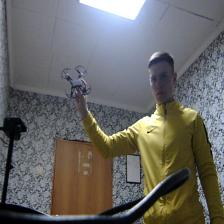drone: (59, 56, 95, 104)
